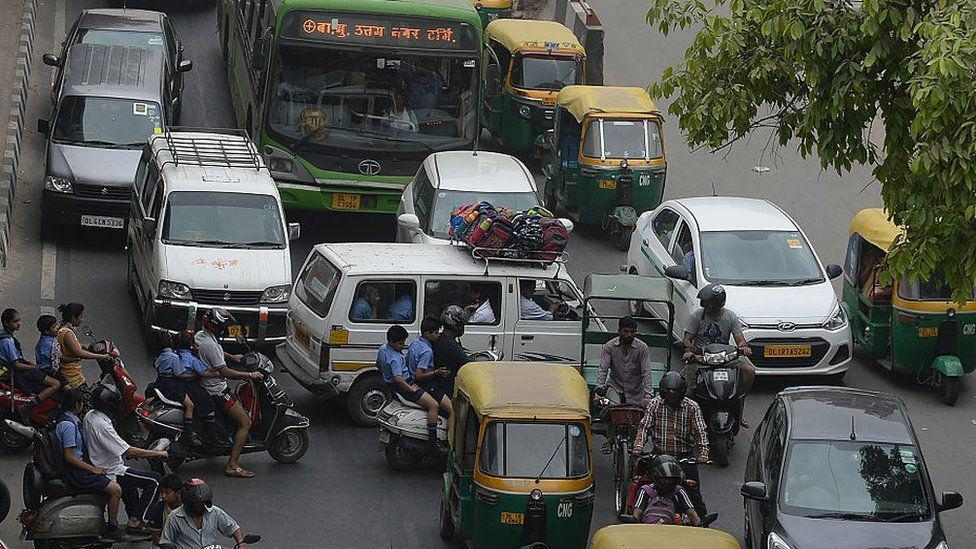bus: (231, 1, 507, 206)
car: (275, 236, 604, 433), (651, 199, 855, 408), (7, 5, 175, 250), (126, 124, 297, 334), (742, 389, 962, 549), (441, 359, 605, 549), (389, 144, 558, 254)
motorbike: (549, 87, 673, 248), (120, 358, 290, 473), (24, 443, 223, 537), (1, 345, 154, 455), (480, 16, 594, 158)
person: (368, 315, 446, 458)
